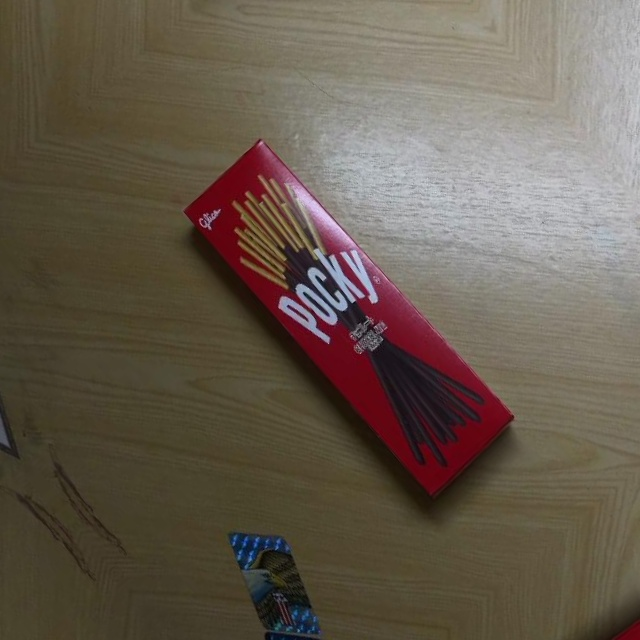Pocky: (179, 128, 519, 500)
